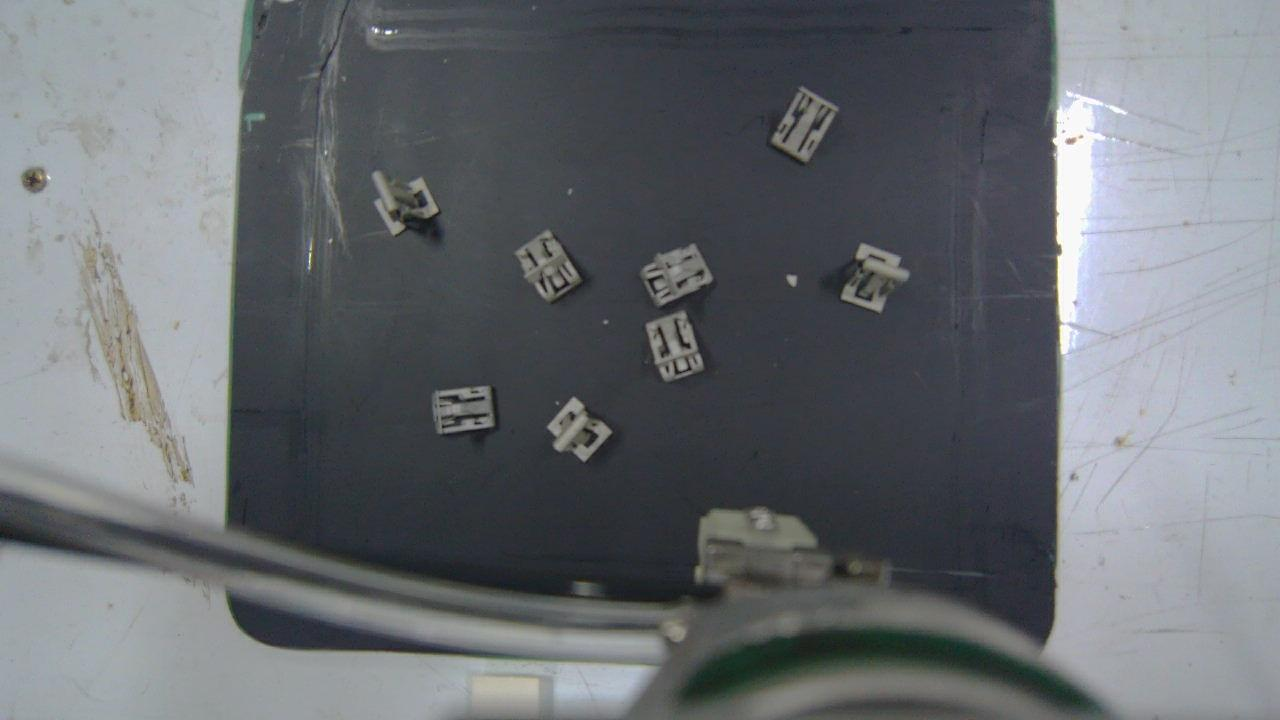ng: (770, 90, 840, 163), (515, 232, 578, 303), (641, 247, 713, 306), (647, 313, 705, 381), (432, 387, 496, 432)
pass: (842, 243, 909, 314), (370, 172, 439, 239), (549, 398, 611, 462)
